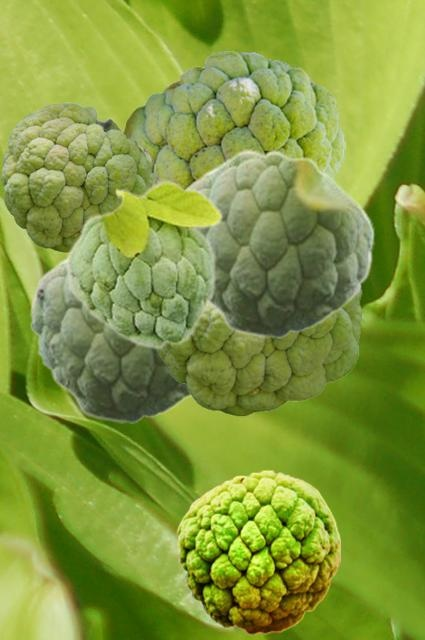atis: (184, 149, 375, 337), (121, 51, 344, 185), (29, 255, 191, 422), (64, 179, 223, 349), (176, 469, 339, 634), (156, 291, 361, 415), (1, 102, 152, 251)
